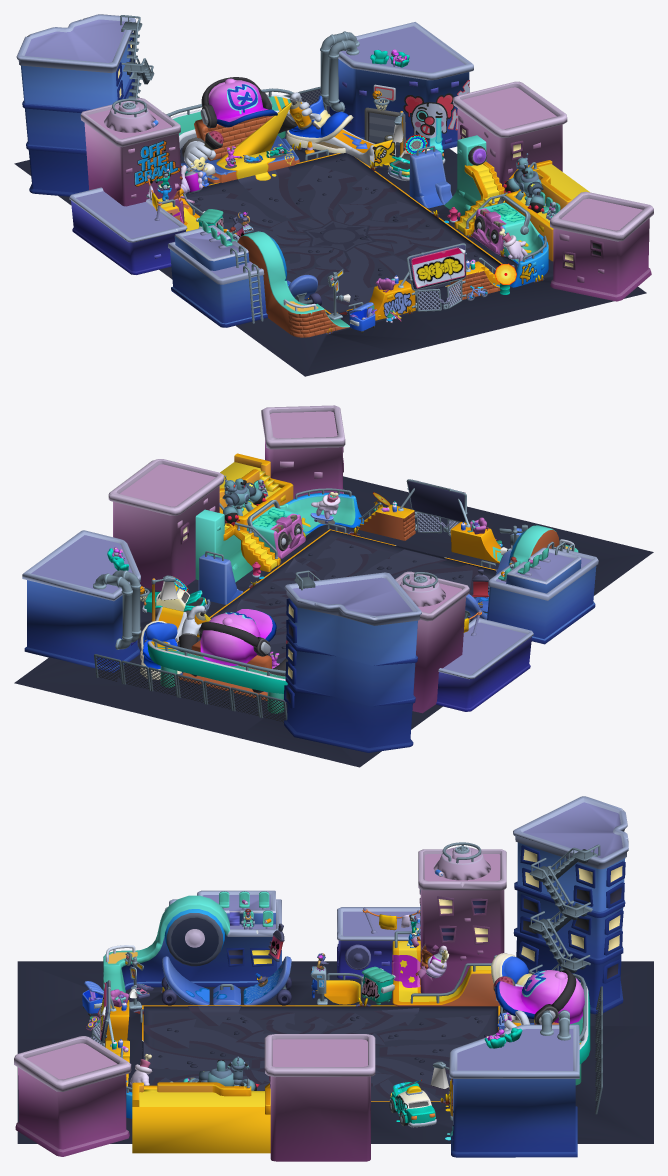
File: bgr_skatepark_geo.fbx
3 views of the same model, one above another, from view 1: azimuth 30°, elevation 25°; view 2: azimuth 150°, elevation 25°; view 3: azimuth 270°, elevation 25° (orthographic). The views are drawn at different scales.
Visible parts, largest first — view 1: bgr_skatepark_playground_bup, bgr_skatepark_ground_side, bgr_skatepark_House, bgr_skatepark_BuildingStairs, bgr_skatepark_BuildingCorner, bgr_skatepark_Building1, bgr_skatepark_Building4, bgr_skatepark_building5, bgr_skatepark_building4, bgr_skatepark_BoomboxRamp_008, bgr_skatepark_cap_007, bgr_skatepark_spraystage (+19 smaller); view 2: bgr_skatepark_House, bgr_skatepark_ground_side, bgr_skatepark_BuildingStairs, bgr_skatepark_BuildingCorner, bgr_skatepark_Building1, bgr_skatepark_playground_bup, bgr_skatepark_Building4, bgr_skatepark_building4, bgr_skatepark_building5, bgr_skatepark_topramp, bgr_skatepark_BoomboxRamp_008, bgr_skatepark_planefdence_001 (+15 smaller); view 3: bgr_skatepark_ground_side, bgr_skatepark_BuildingStairs, bgr_skatepark_playground_bup, bgr_skatepark_House, bgr_skatepark_BuildingCorner, bgr_skatepark_Building1, bgr_skatepark_Building4, bgr_skatepark_building5, bgr_skatepark_building4, bgr_skatepark_Staircase, bgr_skatepark_ramp3, bgr_skatepark_cap_007 (+12 smaller).
Part boxes in pixels (x1,y1,x2,y2): bgr_skatepark_playground_bup: (185, 153, 500, 313); bgr_skatepark_ground_side: (14, 89, 646, 376); bgr_skatepark_House: (16, 14, 135, 196); bgr_skatepark_BuildingStairs: (444, 81, 589, 261); bgr_skatepark_BuildingCorner: (320, 22, 473, 149); bgr_skatepark_Building1: (168, 221, 349, 337); bgr_skatepark_Building4: (550, 191, 653, 301); bgr_skatepark_building5: (80, 98, 184, 223); bgr_skatepark_building4: (69, 187, 187, 274); bgr_skatepark_BoomboxRamp_008: (472, 195, 548, 287); bgr_skatepark_cap_007: (208, 78, 277, 127); bgr_skatepark_spraystage: (216, 102, 291, 179); bgr_skatepark_House: (284, 572, 421, 752); bgr_skatepark_ground_side: (14, 476, 653, 767); bgr_skatepark_BuildingStairs: (108, 453, 293, 591); bgr_skatepark_BuildingCorner: (22, 530, 149, 672); bgr_skatepark_Building1: (487, 525, 598, 644); bgr_skatepark_playground_bup: (177, 530, 496, 663); bgr_skatepark_Building4: (261, 405, 345, 498); bgr_skatepark_building4: (436, 618, 533, 711); bgr_skatepark_building5: (395, 571, 469, 713); bgr_skatepark_topramp: (147, 638, 287, 713); bgr_skatepark_BoomboxRamp_008: (247, 488, 364, 558); bgr_skatepark_planefdence_001: (96, 656, 285, 722); bgr_skatepark_ground_side: (17, 961, 653, 1143); bgr_skatepark_BuildingStairs: (132, 1034, 375, 1161); bgr_skatepark_playground_bup: (143, 1006, 498, 1101); bgr_skatepark_House: (513, 796, 628, 1014); bgr_skatepark_BuildingCorner: (449, 1010, 579, 1157); bgr_skatepark_Building1: (103, 890, 281, 992); bgr_skatepark_Building4: (14, 1036, 131, 1156); bgr_skatepark_building5: (418, 842, 506, 993); bgr_skatepark_building4: (337, 907, 420, 978); bgr_skatepark_Staircase: (529, 844, 600, 974); bgr_skatepark_ramp3: (392, 931, 499, 1006); bgr_skatepark_cap_007: (495, 970, 584, 1024).
Bounding box in the file's own units: 4829 × 1776 × 5999.
15 materials, 15 textured.
